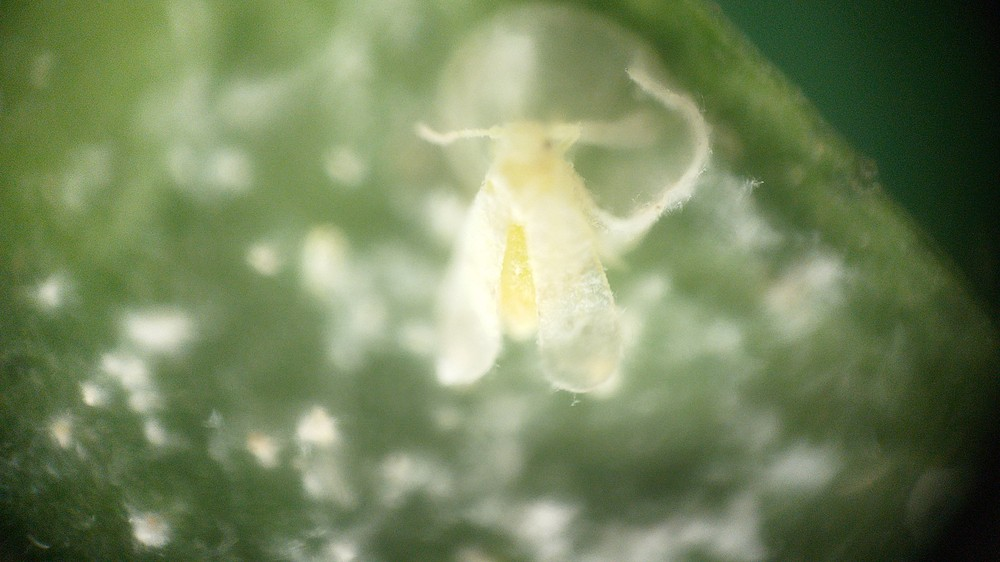Mosca Blanca: (394, 90, 699, 409)
